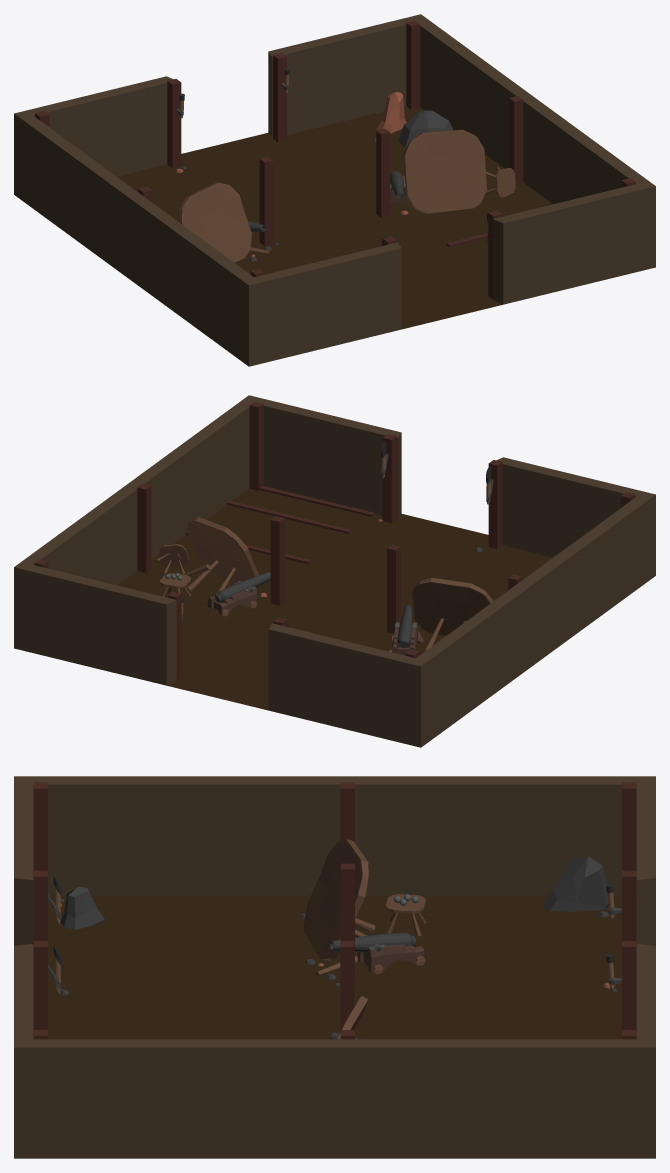
The model's file is RoomBen3.fbx.
3 views of the same model, one above another, from view 1: azimuth 30°, elevation 25°; view 2: azimuth 150°, elevation 25°; view 3: azimuth 270°, elevation 25° (orthographic). The views are drawn at different scales.
Visible parts, largest first — view 1: Room1.004, RoomFloor, Table.004, Table.003, Support.063, Support.059, Support.062, Support.055, Support.061, Support.054, LargeRock1.016, LargeRock1.010 (+2 smaller); view 2: Room1.004, RoomFloor, Table.003, Table.004, FloorBase.004, Cannon.007, Support.061, Support.063, Support.058, Support.053, Support.062, Support.052 (+3 smaller); view 3: Room1.004, RoomFloor, Table.003, LargeRock1.018, Cannon.006, Support.054, Support.057, LargeRock1.017, Support.052, Support.056, Support.062, Support.063 (+4 smaller).
Boxes of the visible parts, x1,y1,x2,y2 form: Room1.004: (14, 14, 655, 366); RoomFloor: (117, 106, 552, 329); Table.004: (403, 129, 486, 213); Table.003: (178, 182, 251, 262); Support.063: (376, 128, 390, 217); Support.059: (406, 20, 420, 109); Support.062: (259, 157, 273, 245); Support.055: (167, 79, 181, 167); Support.061: (509, 96, 523, 184); Support.054: (273, 53, 286, 142); LargeRock1.016: (398, 110, 453, 147); LargeRock1.010: (376, 92, 406, 133); Room1.004: (14, 395, 655, 747); RoomFloor: (117, 488, 552, 710); Table.003: (412, 577, 492, 651); Table.004: (186, 517, 258, 593); FloorBase.004: (185, 486, 374, 563); Cannon.007: (207, 571, 270, 616); Support.061: (137, 483, 151, 572); Support.063: (270, 516, 284, 605); Support.058: (249, 401, 263, 490); Support.053: (488, 460, 502, 549); Support.062: (387, 544, 400, 633); Support.052: (382, 434, 396, 523); Room1.004: (14, 776, 655, 1158); RoomFloor: (33, 895, 636, 1039); Table.003: (304, 839, 375, 960); LargeRock1.018: (541, 856, 608, 911); Cannon.006: (330, 932, 425, 974); Support.054: (622, 941, 636, 1029); Support.057: (622, 782, 636, 870); LargeRock1.017: (60, 886, 104, 929); Support.052: (34, 941, 47, 1029); Support.056: (34, 782, 47, 870); Support.062: (340, 863, 354, 983); Support.063: (340, 941, 354, 1031).
Size of the model in its own units: 796 by 181 by 796.
